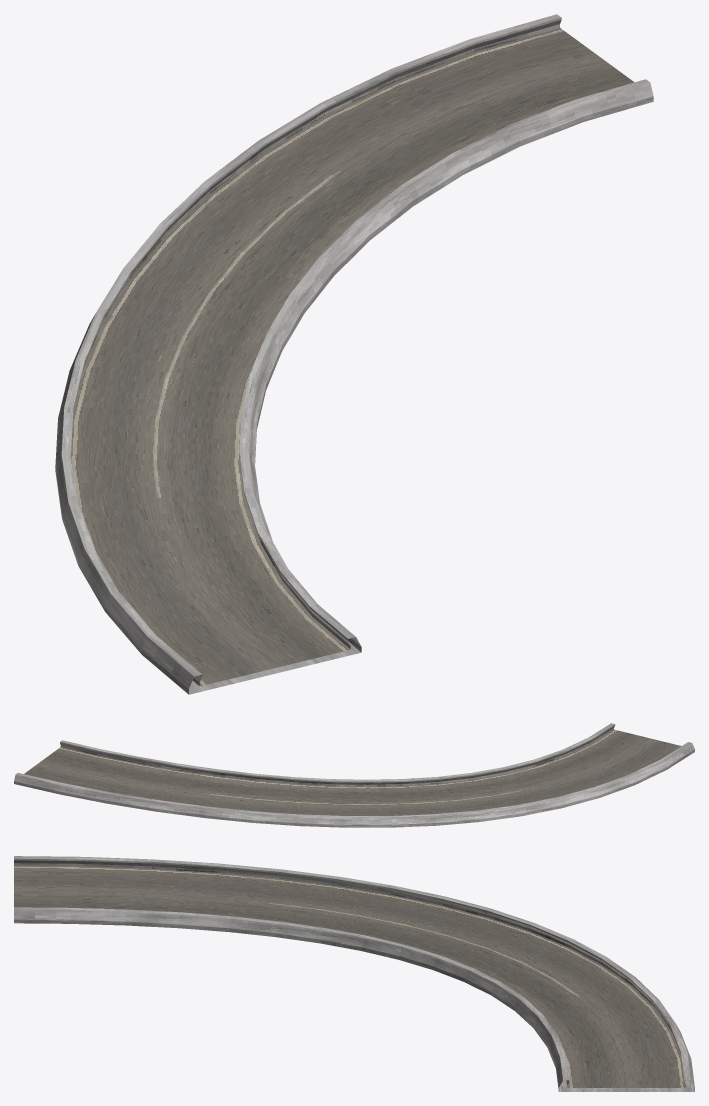
File: turn-right5x5.glb
3 renders of one model, top to bottom at view 1: azimuth 30°, elevation 25°; view 2: azimuth 150°, elevation 25°; view 3: azimuth 270°, elevation 25°, orthographic. The views are drawn at different scales.
Parts seen in each view (by area): view 1: road-Turn-Flat-Flat-Up2-Right-Size5; view 2: road-Turn-Flat-Flat-Up2-Right-Size5; view 3: road-Turn-Flat-Flat-Up2-Right-Size5.
Part boxes in pixels (<box>): road-Turn-Flat-Flat-Up2-Right-Size5: <box>55,14,653,694</box>; road-Turn-Flat-Flat-Up2-Right-Size5: <box>14,723,694,827</box>; road-Turn-Flat-Flat-Up2-Right-Size5: <box>14,856,694,1091</box>.
Bounding box in the file's own units: 5 × 0.5938 × 5.
2 materials, 2 textured.
